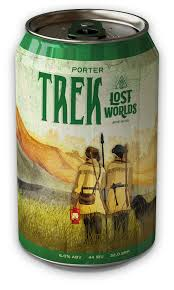can: (11, 7, 158, 268)
